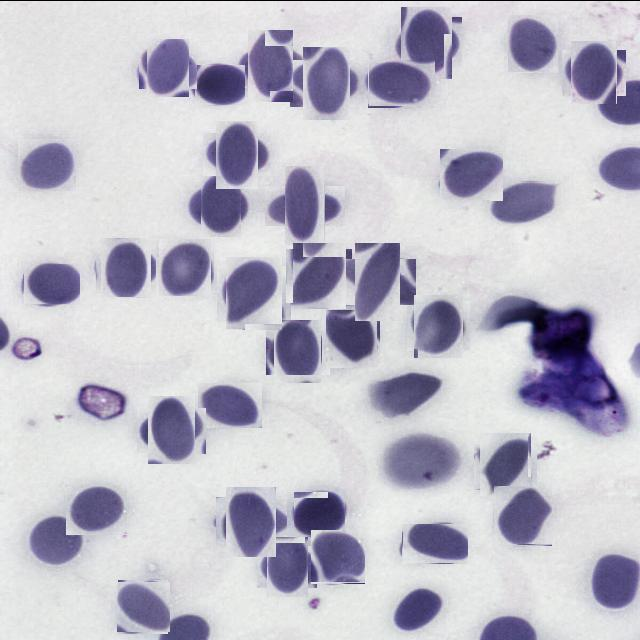red blood cell: (222, 260, 287, 326), (372, 366, 446, 418), (395, 11, 457, 73), (346, 250, 408, 312), (297, 52, 357, 112), (275, 174, 335, 234), (222, 491, 282, 551), (289, 245, 349, 305), (493, 484, 552, 544), (240, 36, 300, 94), (476, 434, 534, 492), (142, 401, 200, 458), (368, 58, 435, 106), (440, 148, 503, 199), (411, 296, 466, 354), (209, 126, 265, 182), (270, 322, 326, 378), (566, 44, 622, 99), (99, 239, 154, 295), (490, 180, 560, 224), (66, 484, 127, 534), (590, 550, 640, 611), (324, 310, 378, 366), (18, 138, 76, 190), (507, 14, 558, 72), (312, 529, 366, 583), (158, 240, 212, 294), (32, 510, 85, 565), (198, 381, 262, 426), (118, 580, 170, 632), (196, 180, 247, 232), (142, 41, 194, 92), (402, 523, 468, 563), (262, 540, 312, 592), (293, 491, 345, 536), (23, 263, 80, 304), (395, 588, 442, 632), (195, 64, 245, 104)
